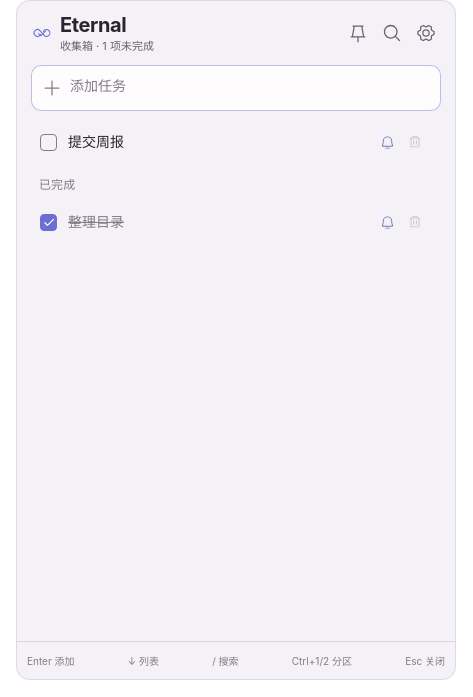
Eternal task panel › captures, completes, and searches tasks from one panel
Expected: the text "提交周报" is shown, [68,133,124,150]
Type "喝一杯水" into the text box labelled "添加任务" at {"x": 250, "y": 88}, box [70,76,430,100]
Then press Enter
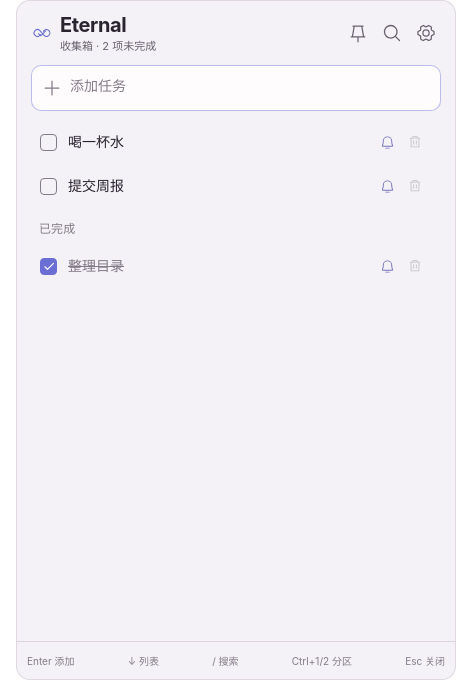
Now the text "喝一杯水" is shown, box [68,133,124,150]
Click the checkbox named "完成：提交周报" at {"x": 48, "y": 186}, box [40,178,57,194]
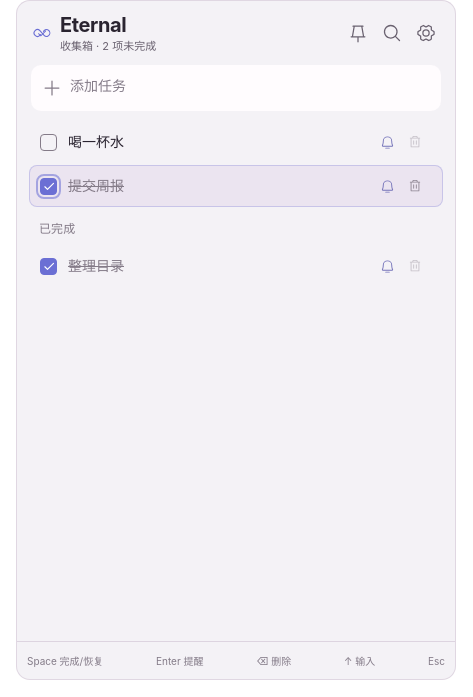
Press f
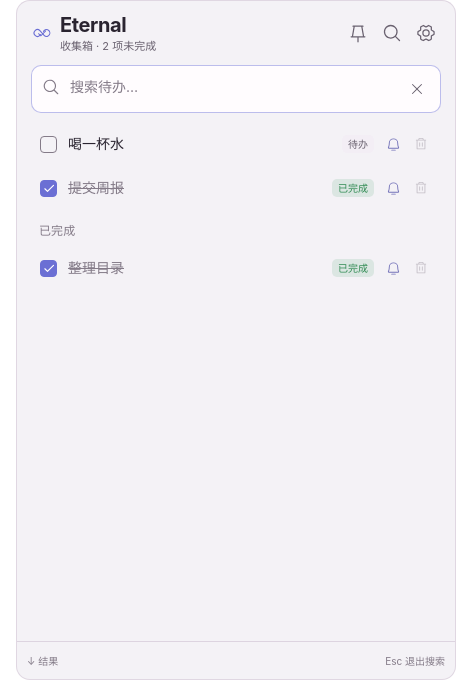
Type "喝一杯" into the search field labelled "搜索待办" at {"x": 232, "y": 87}, box [68,76,396,98]
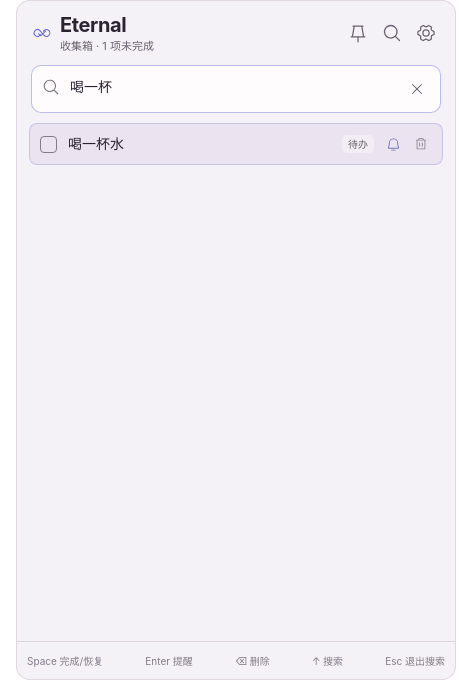
Now the text "喝一杯水" is shown, box [68,135,124,152]
Now the text "整理目录" is gone
Press Escape
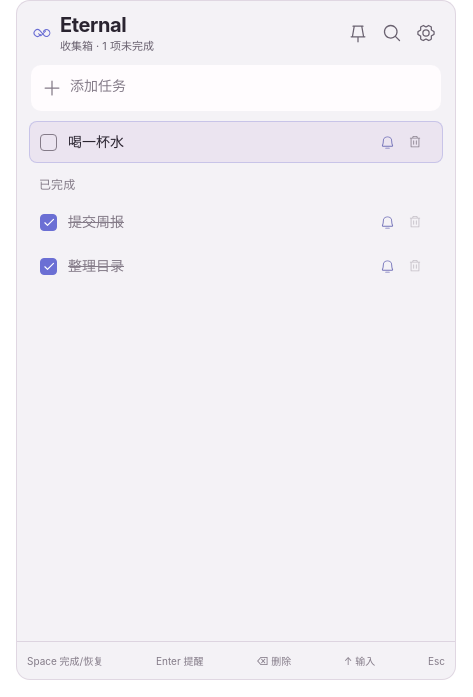
Now the text box labelled "添加任务" is shown, box [70,76,430,100]
